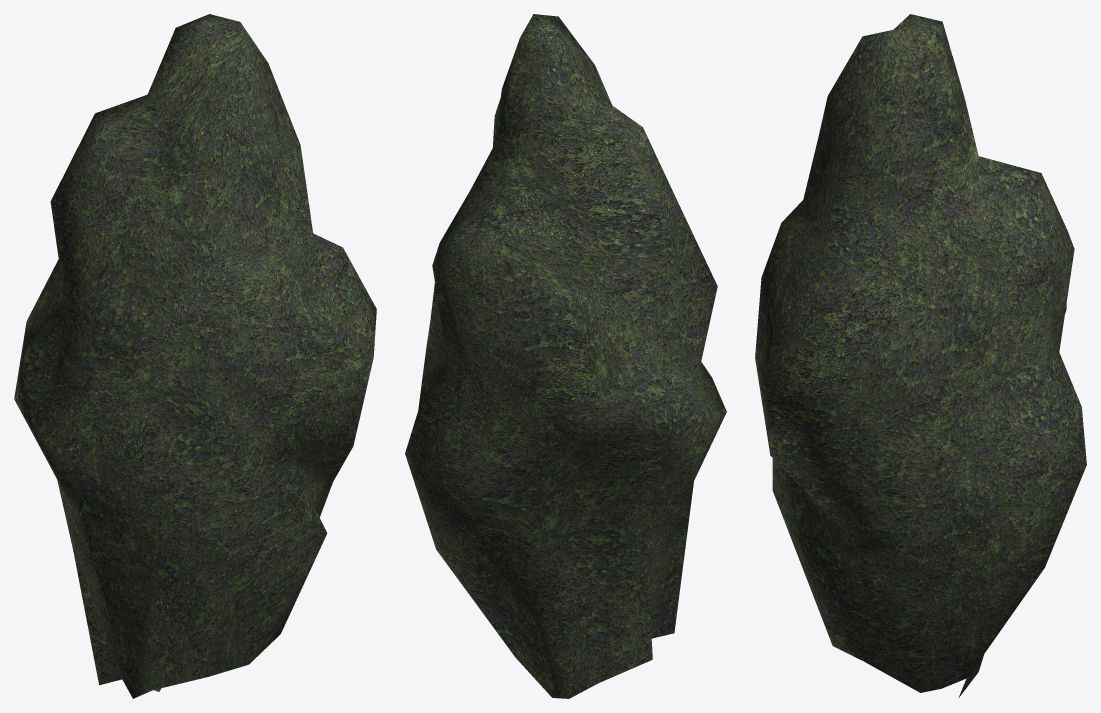
The model's file is rock_pillar_01.fbx.
The picture shows the model from 3 angles, left to right: view 1: azimuth 30°, elevation 25°; view 2: azimuth 150°, elevation 25°; view 3: azimuth 270°, elevation 25°; orthographic projection. The views are drawn at different scales.
Visible parts, largest first — view 1: rock_pillar_01; view 2: rock_pillar_01; view 3: rock_pillar_01.
Part boxes in pixels (left/top/right/bottom): rock_pillar_01: left=14, top=14, right=376, bottom=698; rock_pillar_01: left=405, top=14, right=726, bottom=698; rock_pillar_01: left=755, top=14, right=1086, bottom=697.
Size of the model in its own units: 17.48 by 37.33 by 16.15.
